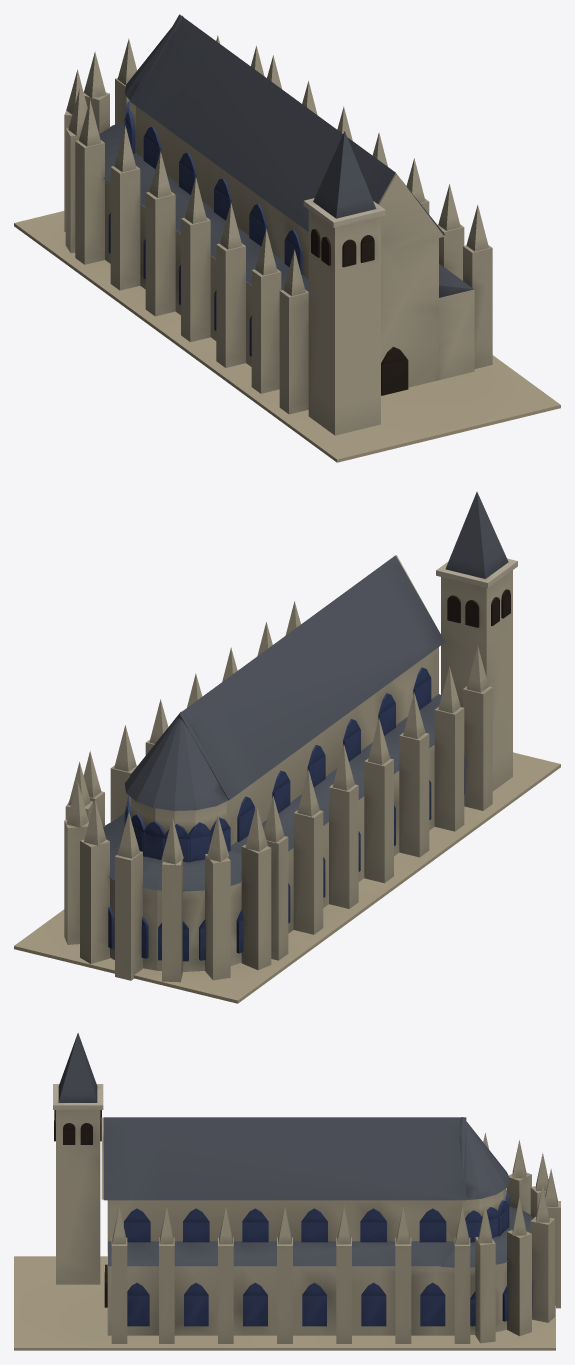
File: saint-jacques-old.glb
3 renders of one model, top to bottom at view 1: azimuth 30°, elevation 25°; view 2: azimuth 150°, elevation 25°; view 3: azimuth 270°, elevation 25°, orthographic. The views are drawn at different scales.
Visible parts, largest first — view 1: p1_roofs, p0_walls, p2_belfry; view 2: p1_roofs, p0_walls, p2_belfry; view 3: p1_roofs, p0_walls, p2_belfry.
Part boxes in pixels (bbox=[...]): p1_roofs: bbox=[64, 14, 492, 414]; p0_walls: bbox=[14, 100, 560, 462]; p2_belfry: bbox=[303, 131, 385, 435]; p1_roofs: bbox=[64, 555, 492, 982]; p0_walls: bbox=[14, 647, 560, 1003]; p2_belfry: bbox=[436, 492, 517, 791]; p1_roofs: bbox=[101, 1117, 560, 1343]; p0_walls: bbox=[14, 1188, 555, 1350]; p2_belfry: bbox=[53, 1033, 103, 1284].
Size of the model in its own units: 22 by 27.52 by 55.5.
